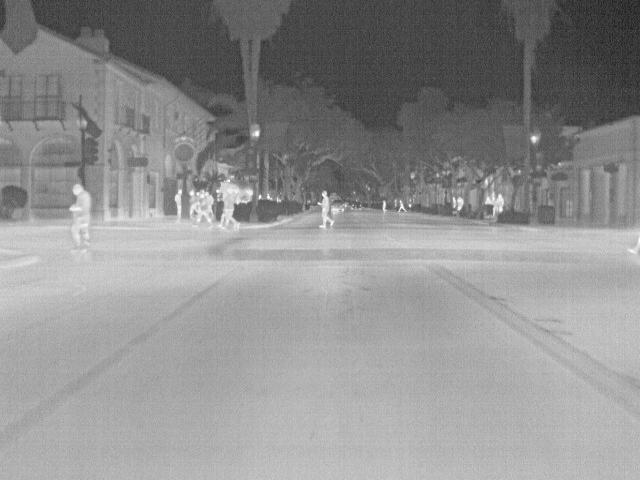car: (332, 199, 346, 212), (352, 199, 366, 210)
person: (70, 181, 93, 255), (316, 188, 335, 230), (222, 187, 235, 225), (196, 193, 209, 227), (174, 190, 182, 216), (494, 193, 504, 213), (188, 189, 195, 215), (208, 190, 215, 216), (456, 195, 464, 212), (380, 198, 387, 213), (484, 195, 495, 204), (399, 198, 405, 212)
